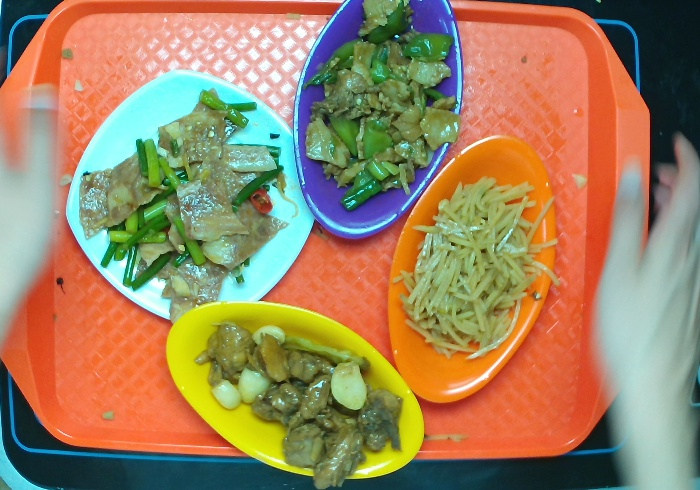RJxy-Fen_Hong_Tuo_Yuan: (288, 1, 469, 244)
RJxy-Huang_Se_Tuo_Yuan: (160, 297, 429, 485)
RJxy-Ju_Huang_Tuo_Yuan: (380, 130, 563, 411)
RJxy-Si_Fang_Die: (59, 65, 317, 329)
